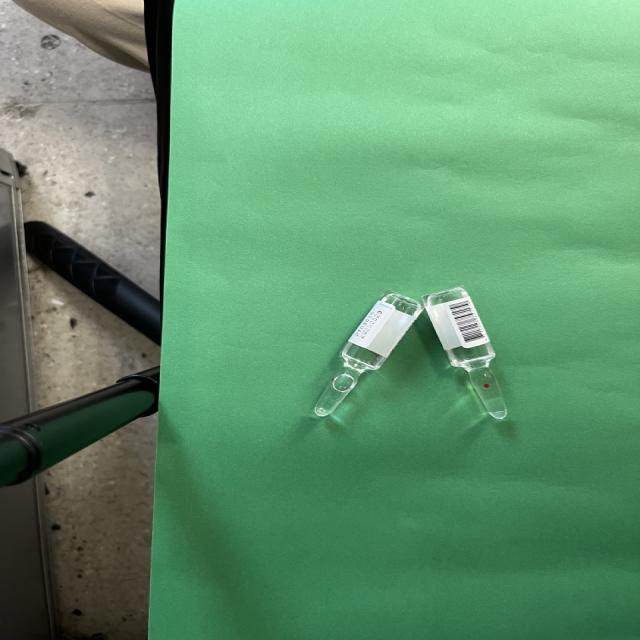Ampoules: (315, 293, 423, 416), (421, 287, 507, 420)
